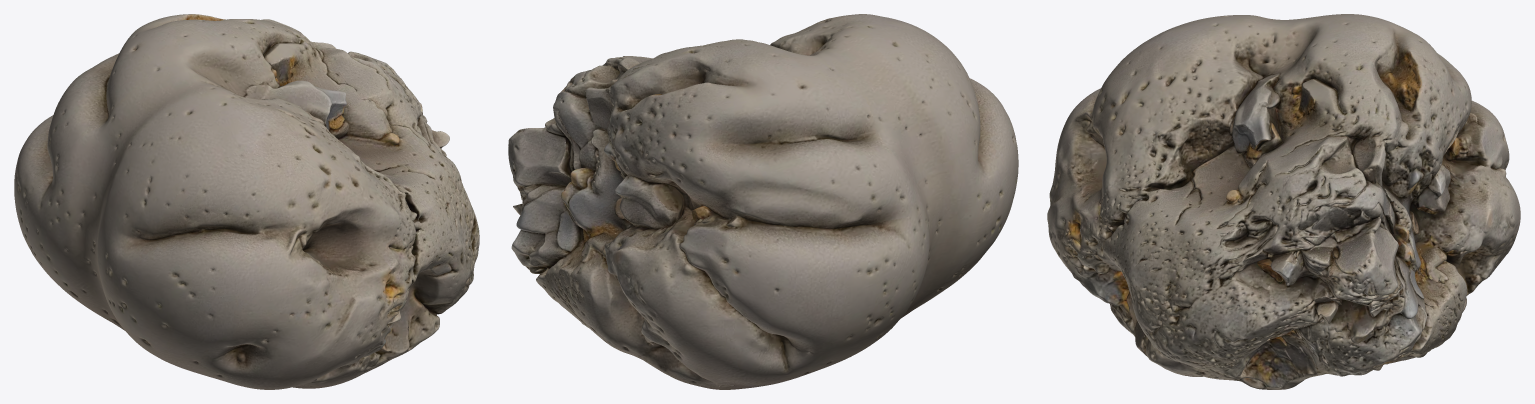
File: rock_opt.glb
3 views of the same model, side by side, from view 1: azimuth 30°, elevation 25°; view 2: azimuth 150°, elevation 25°; view 3: azimuth 270°, elevation 25° (orthographic). The views are drawn at different scales.
Visible parts, largest first — view 1: tripo_node_62256795-7baf-4ee3-ac7d-b9f85b03d50c; view 2: tripo_node_62256795-7baf-4ee3-ac7d-b9f85b03d50c; view 3: tripo_node_62256795-7baf-4ee3-ac7d-b9f85b03d50c.
Part boxes in pixels (<box>): tripo_node_62256795-7baf-4ee3-ac7d-b9f85b03d50c: <box>14,14,479,389</box>; tripo_node_62256795-7baf-4ee3-ac7d-b9f85b03d50c: <box>508,14,1018,389</box>; tripo_node_62256795-7baf-4ee3-ac7d-b9f85b03d50c: <box>1047,14,1520,389</box>.
Size of the model in its own units: 0.9177 by 0.6939 by 0.9806.
Materials: 1 (1 with a texture image).
